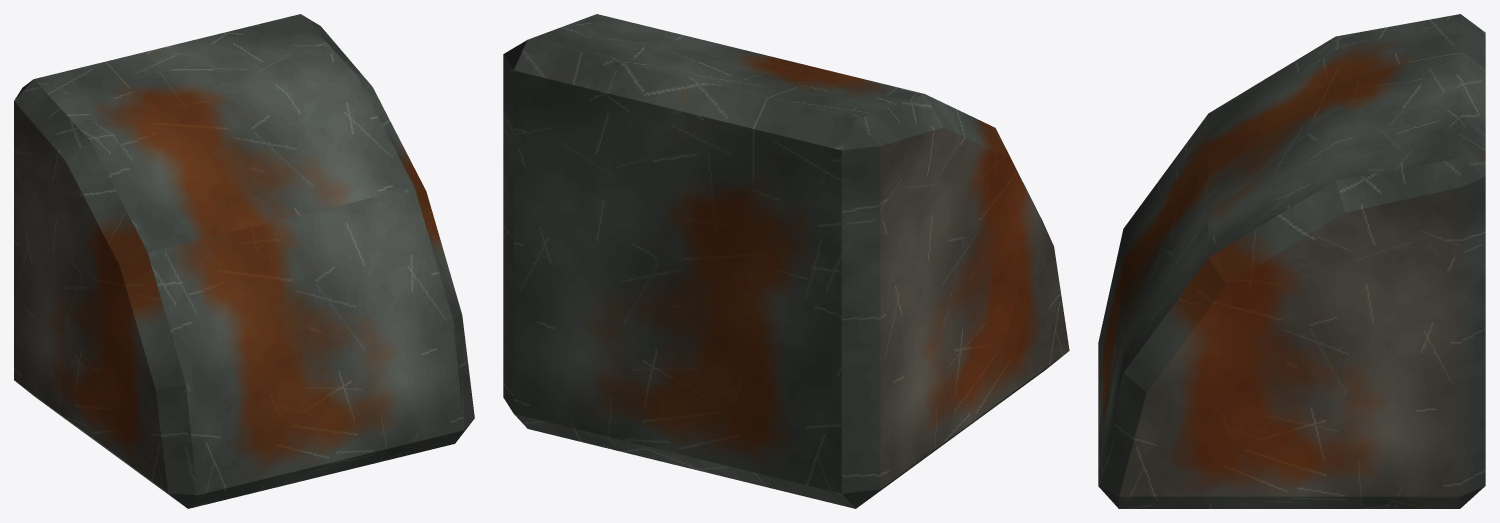
Rendered from R4B_RoundEdge_LOD1.glb.
The picture shows the model from 3 angles, left to right: view 1: azimuth 30°, elevation 25°; view 2: azimuth 150°, elevation 25°; view 3: azimuth 270°, elevation 25°; orthographic projection. The views are drawn at different scales.
Visible parts, largest first — view 1: R4B_RoundEdge_LOD1; view 2: R4B_RoundEdge_LOD1; view 3: R4B_RoundEdge_LOD1.
Boxes of the visible parts, bbox=[...] form: R4B_RoundEdge_LOD1: bbox=[14, 14, 474, 508]; R4B_RoundEdge_LOD1: bbox=[503, 14, 1069, 508]; R4B_RoundEdge_LOD1: bbox=[1098, 14, 1485, 508].
Bounding box in the file's own units: 0.52 × 0.5134 × 0.5134.
2 materials, 2 textured.
